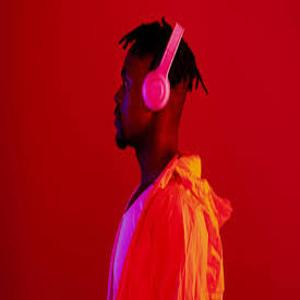Headphones: (137, 19, 188, 113)
